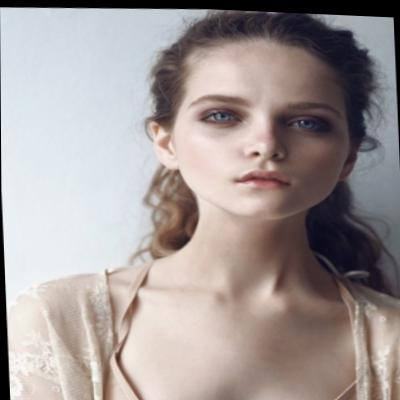netural: (175, 38, 354, 220)
